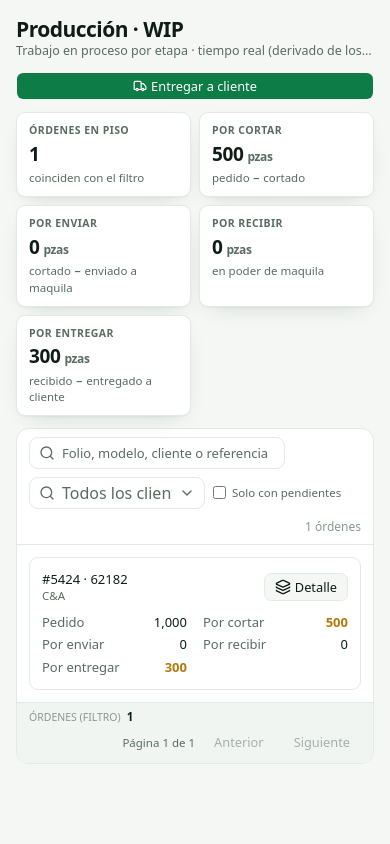
Test: <TableroWipPagina> · puertas a la acción › sin nada por entregar NO se ofrece entregar (pero sí registrar avance)
Step 1. Click the button with test id "wip-detalle" → (306, 587), box [264, 573, 348, 601]
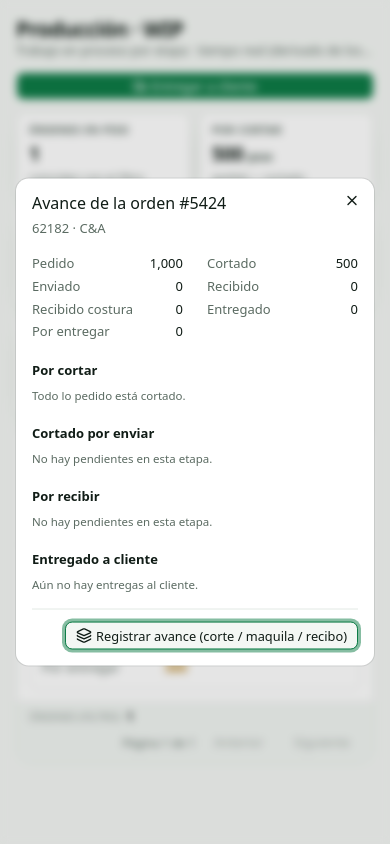
Result: the button with test id "wip-drill-avance" is shown at [65, 622, 358, 650]
